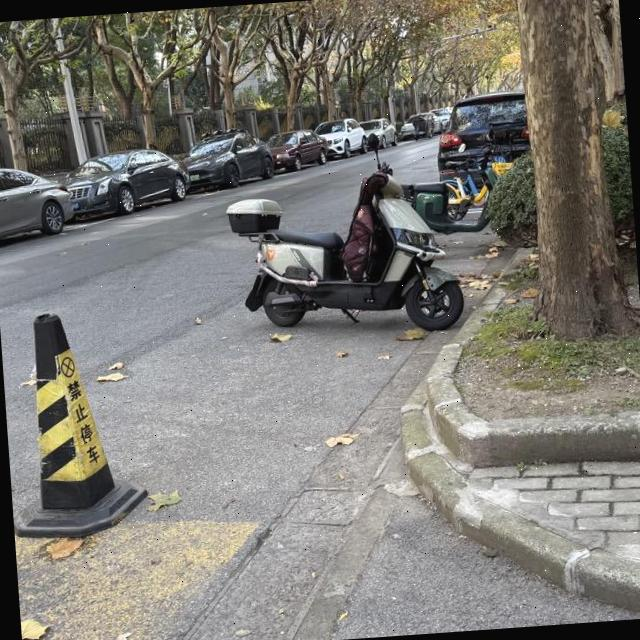curb: (401, 380, 640, 610), (427, 343, 640, 466)
